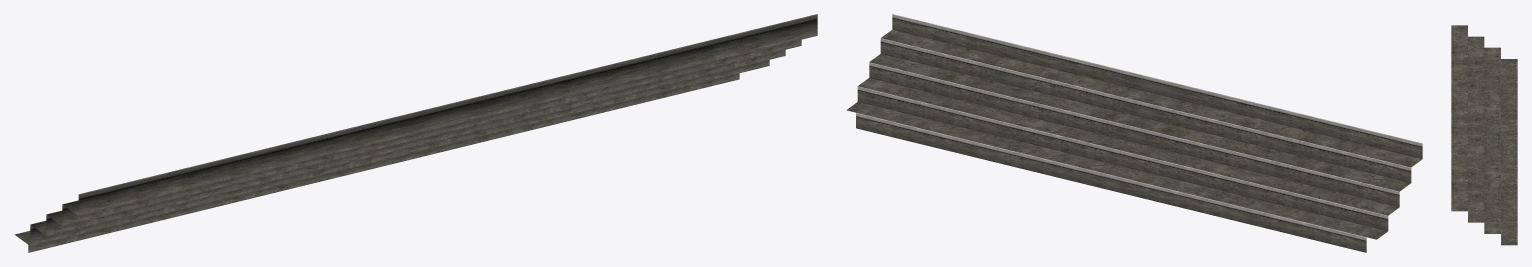
File: DWARF_PALACE_FORGEROOM_STAIRS03.fbx
The picture shows the model from 3 angles, left to right: view 1: azimuth 30°, elevation 25°; view 2: azimuth 150°, elevation 25°; view 3: azimuth 270°, elevation 25°; orthographic projection. The views are drawn at different scales.
Visible parts, largest first — view 1: DWARF_PALACE_FORGEROOM_STAIRS03; view 2: DWARF_PALACE_FORGEROOM_STAIRS03; view 3: DWARF_PALACE_FORGEROOM_STAIRS03.
Part boxes in pixels (x1,y1,x2,y2): DWARF_PALACE_FORGEROOM_STAIRS03: [14, 14, 817, 252]; DWARF_PALACE_FORGEROOM_STAIRS03: [846, 14, 1422, 252]; DWARF_PALACE_FORGEROOM_STAIRS03: [1451, 25, 1517, 245].
Size of the model in its own units: 106426 by 15000 by 16000.
Materials: 2 (2 with a texture image).
